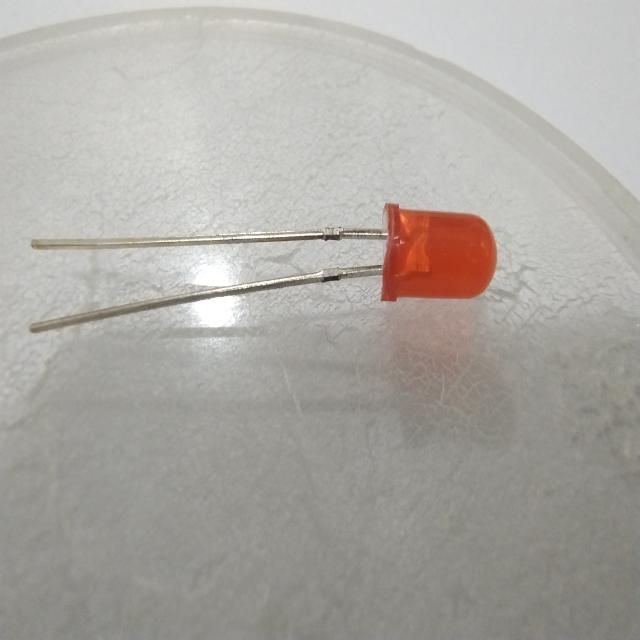red_led: (366, 194, 506, 324)
